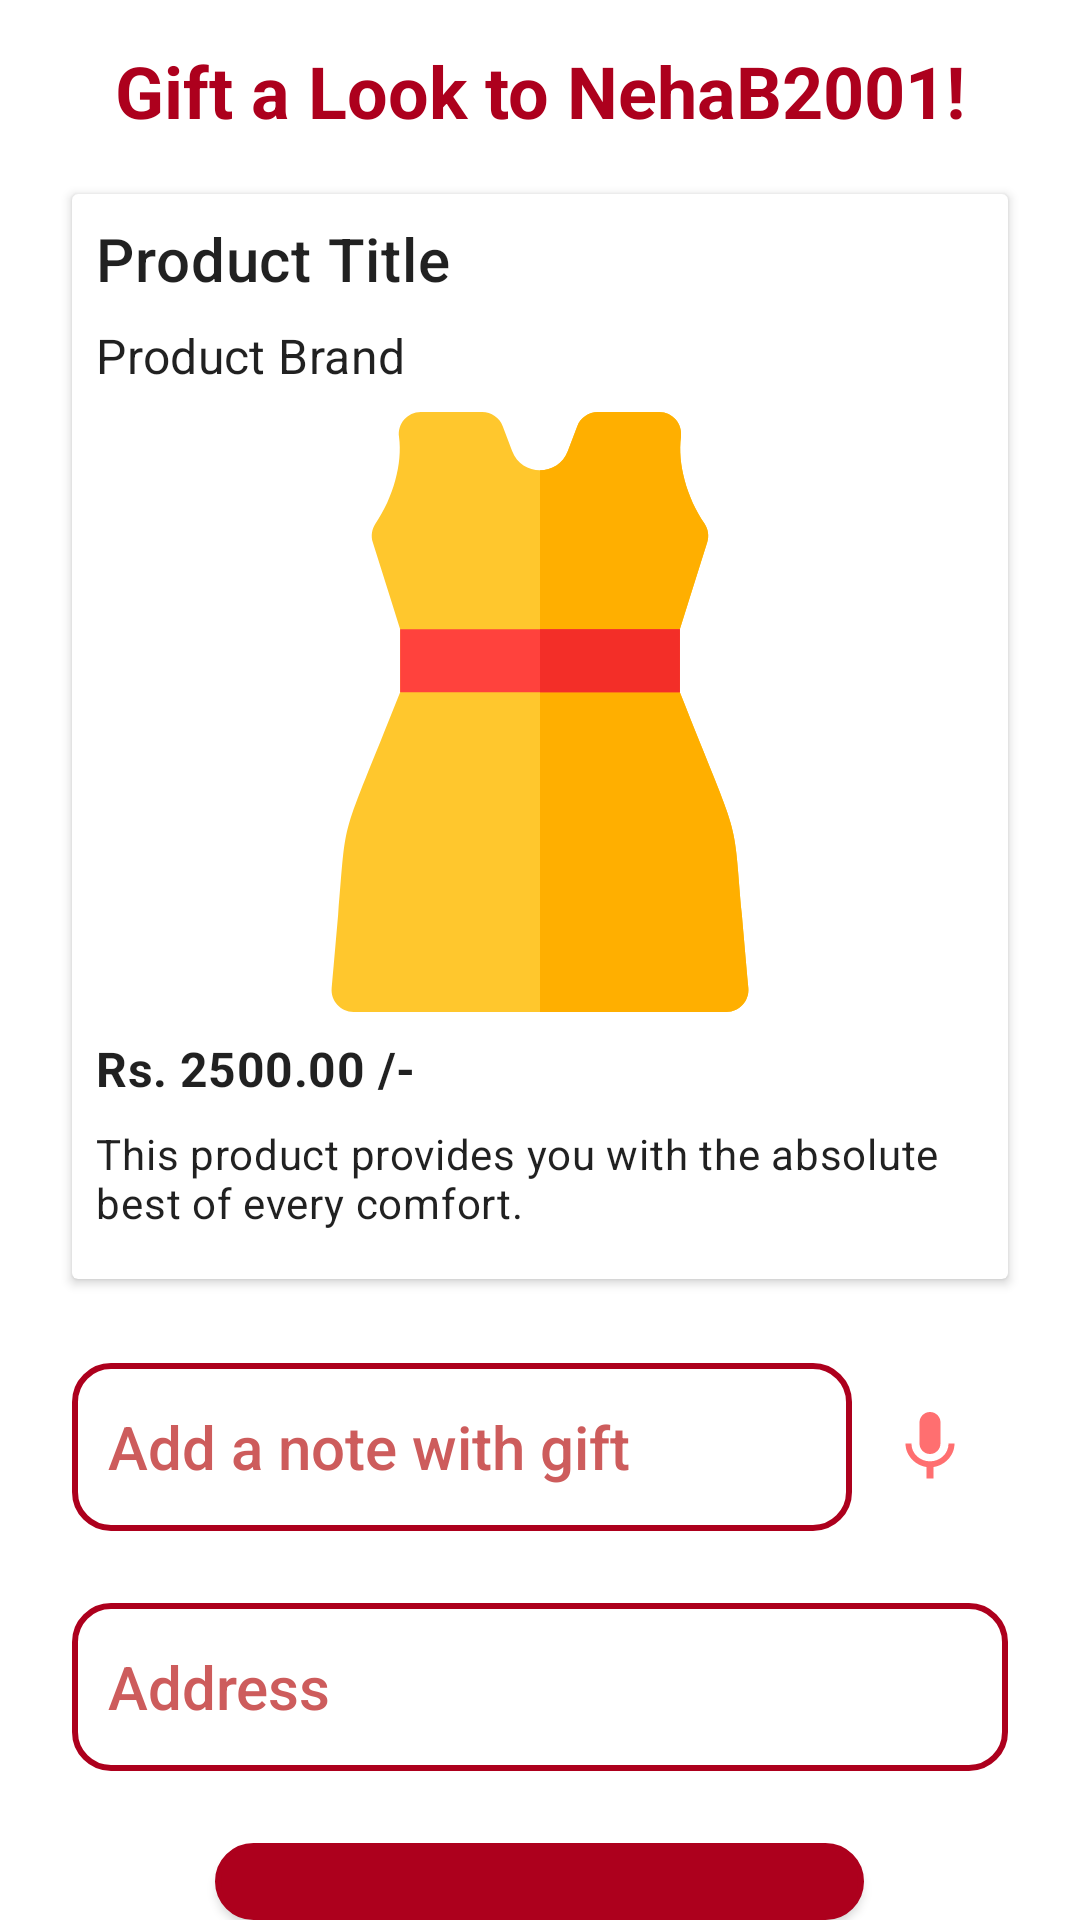

Point at icon controls on the screen. Image size 1080 x 1920, points as [x,y].
mic: [930,1445]
